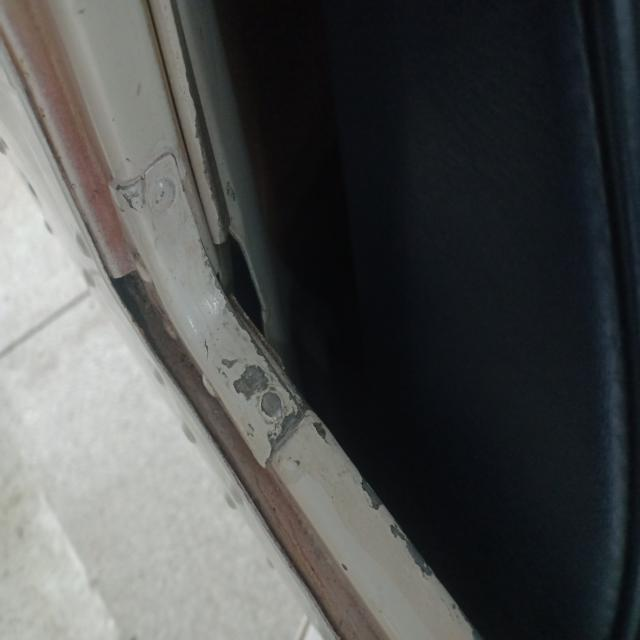Rupture: (203, 319, 468, 606)
